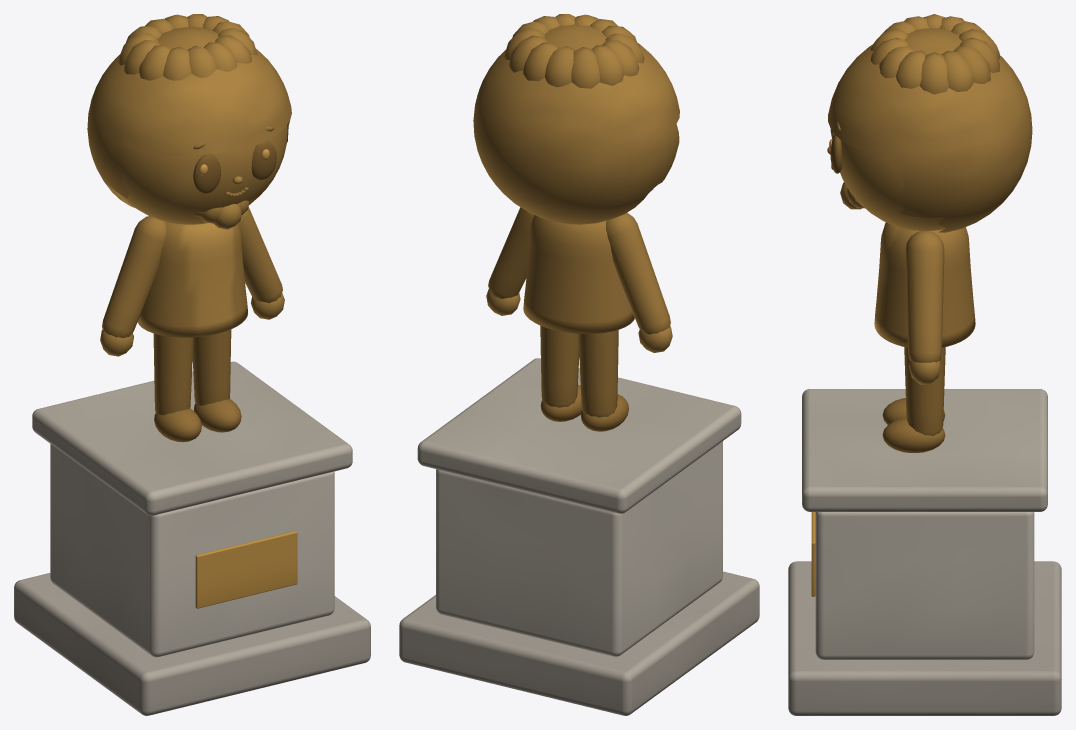
Rendered from statue_david.glb.
3 views of the same model, side by side, from view 1: azimuth 30°, elevation 25°; view 2: azimuth 150°, elevation 25°; view 3: azimuth 270°, elevation 25° (orthographic). The views are drawn at different scales.
Visible parts, largest first — view 1: statue_david_main, statue_hair, statue_body, statue_head, statue_armL, statue_legL, statue_legR, statue_armR, statue_face, statue_beard; view 2: statue_david_main, statue_hair, statue_body, statue_armL, statue_legL, statue_legR, statue_armR; view 3: statue_david_main, statue_hair, statue_body, statue_armR, statue_head, statue_legR, statue_face, statue_legL.
Part boxes in pixels (bbox=[...]): statue_david_main: bbox=[14, 361, 370, 715]; statue_hair: bbox=[87, 14, 291, 207]; statue_body: bbox=[137, 221, 247, 337]; statue_head: bbox=[116, 125, 287, 224]; statue_armL: bbox=[100, 216, 166, 356]; statue_legL: bbox=[153, 333, 201, 442]; statue_legR: bbox=[192, 329, 241, 432]; statue_armR: bbox=[238, 207, 284, 319]; statue_face: bbox=[193, 126, 276, 197]; statue_beard: bbox=[192, 198, 255, 229]; statue_david_main: bbox=[399, 358, 759, 715]; statue_hair: bbox=[473, 14, 679, 224]; statue_body: bbox=[523, 215, 634, 333]; statue_armL: bbox=[606, 212, 672, 352]; statue_legL: bbox=[578, 330, 628, 431]; statue_legR: bbox=[540, 325, 581, 421]; statue_armR: bbox=[486, 207, 534, 315]; statue_david_main: bbox=[788, 389, 1061, 715]; statue_hair: bbox=[828, 14, 1032, 232]; statue_body: bbox=[874, 222, 975, 347]; statue_armR: bbox=[905, 231, 944, 384]; statue_head: bbox=[832, 132, 945, 231]; statue_legR: bbox=[882, 347, 945, 452]; statue_face: bbox=[827, 121, 842, 173]; statue_legL: bbox=[882, 398, 945, 424].
Bounding box in the file's own units: 1 × 2.53 × 1.
